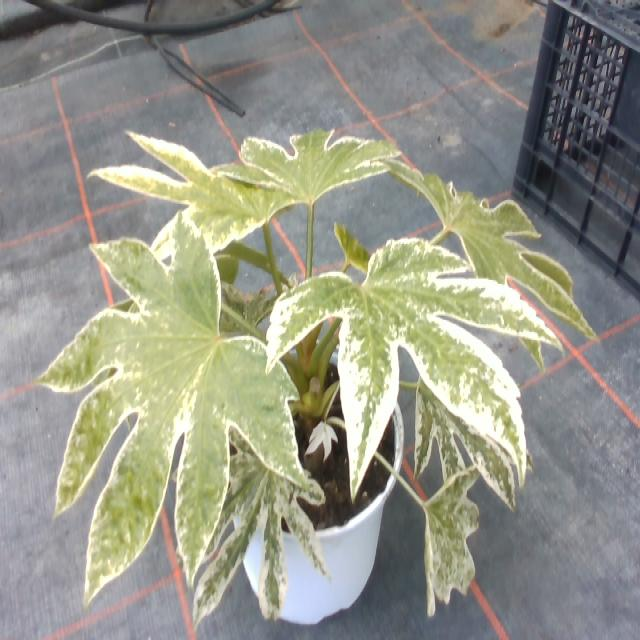Fatsia-japonica: (32, 225, 317, 592), (247, 246, 556, 492), (160, 422, 346, 632), (71, 123, 316, 274), (402, 357, 542, 514), (209, 133, 404, 220), (398, 470, 508, 611), (329, 220, 390, 283)
